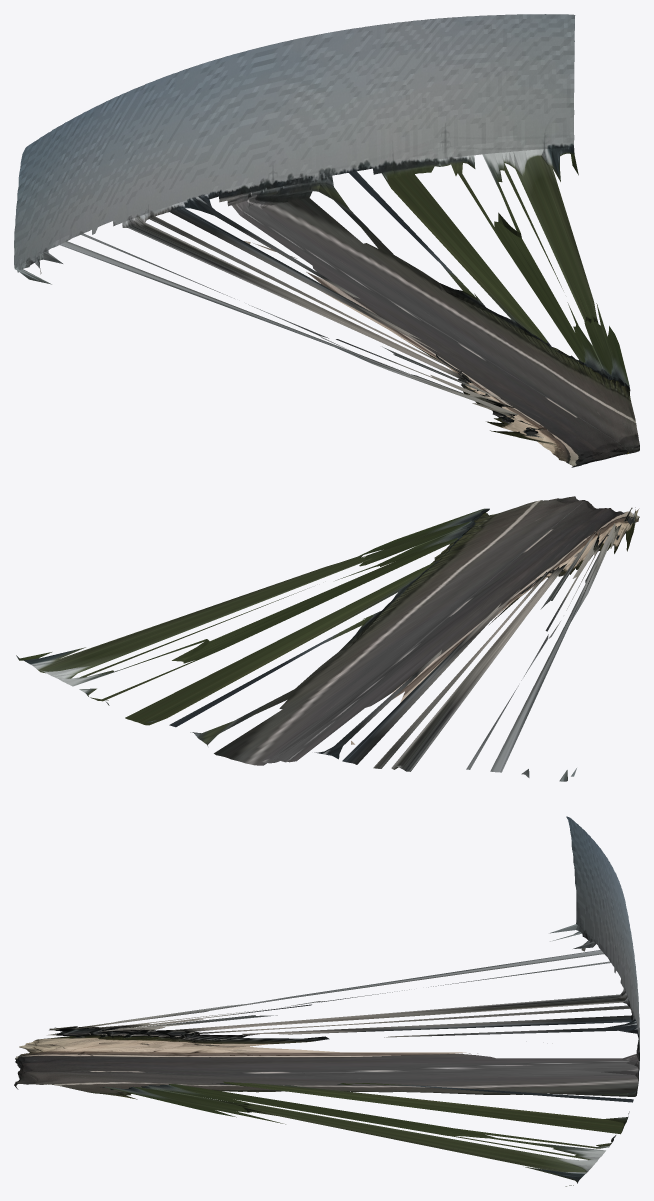
3 renders of one model, top to bottom at view 1: azimuth 30°, elevation 25°; view 2: azimuth 150°, elevation 25°; view 3: azimuth 270°, elevation 25°, orthographic. The views are drawn at different scales.
Parts seen in each view (by area): view 1: defaultobject; view 2: defaultobject; view 3: defaultobject.
Boxes of the visible parts, x1=… form: defaultobject: x1=14, y1=14, x2=639, y2=467; defaultobject: x1=16, y1=496, x2=639, y2=781; defaultobject: x1=14, y1=816, x2=639, y2=1186.
Size of the model in its own units: 41.16 by 11.71 by 44.35.
Materials: 1 (1 with a texture image).
